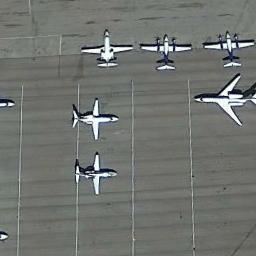Airplane: (191, 74, 256, 127), (68, 94, 122, 142), (140, 28, 196, 74), (78, 27, 136, 71), (71, 154, 122, 198), (204, 29, 256, 70)
